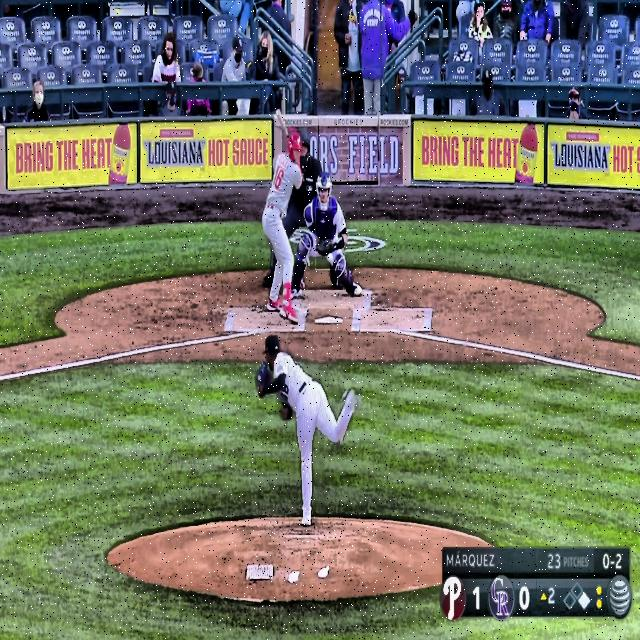baseball: (327, 252, 334, 263)
